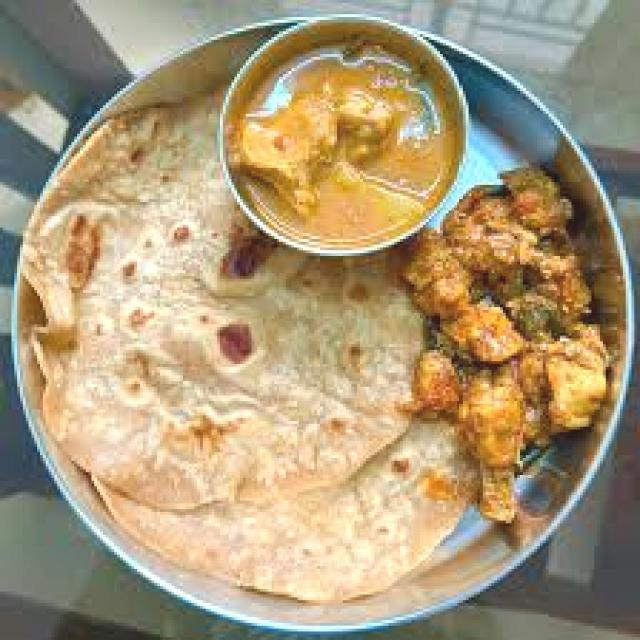chapathi: (52, 282, 389, 548)
